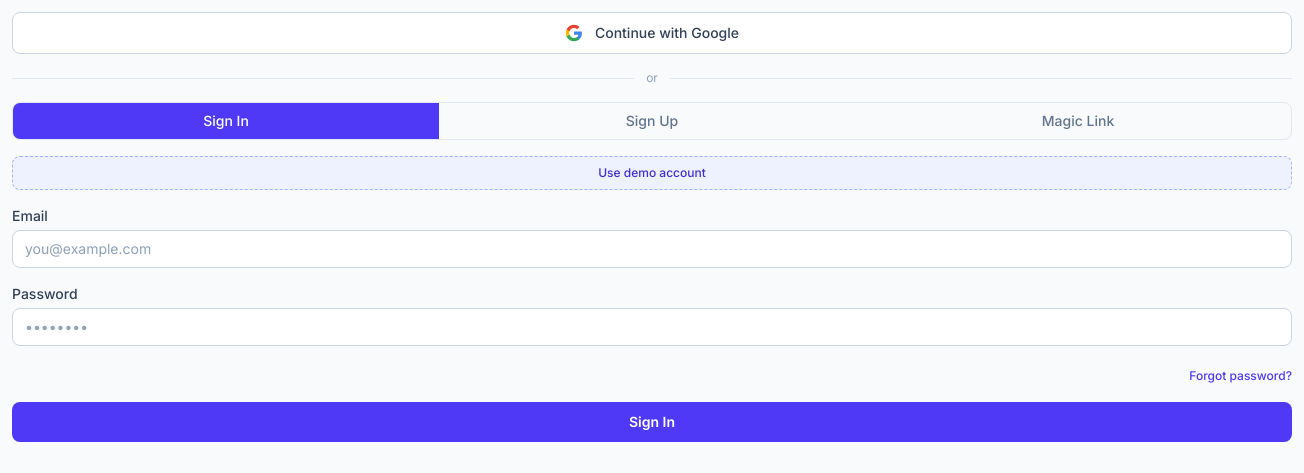
Test case: AuthForm — demo account › does not render the Use demo account button in sign-up mode
The width and height of the screenshot is (1304, 473).
What coordinates should you click on to do the following:
click the button "Sign Up"
I would click on:
 (652, 121)
Its box is [439, 103, 865, 139].
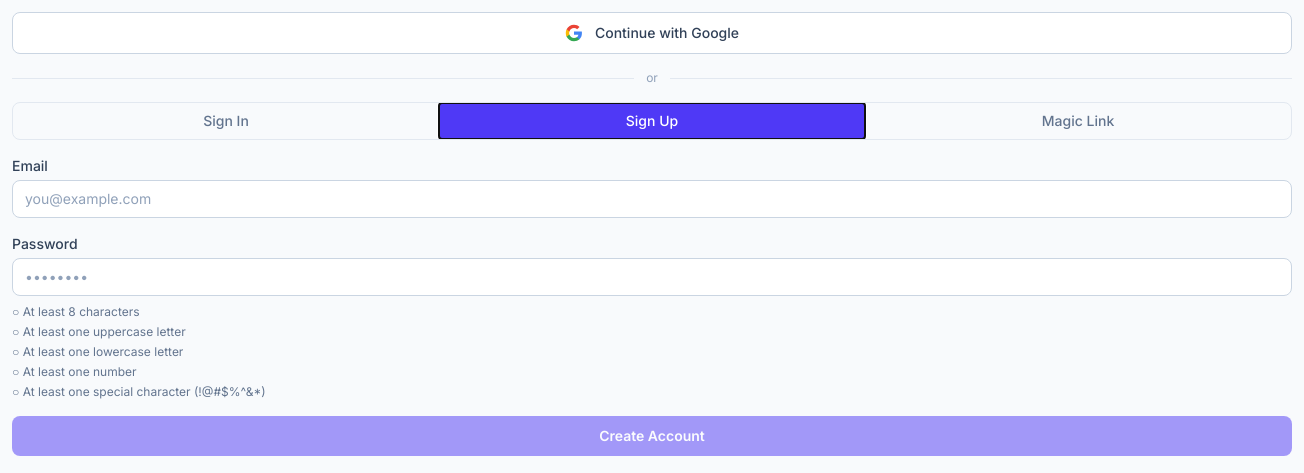
Result: the button "Use demo account" is gone
